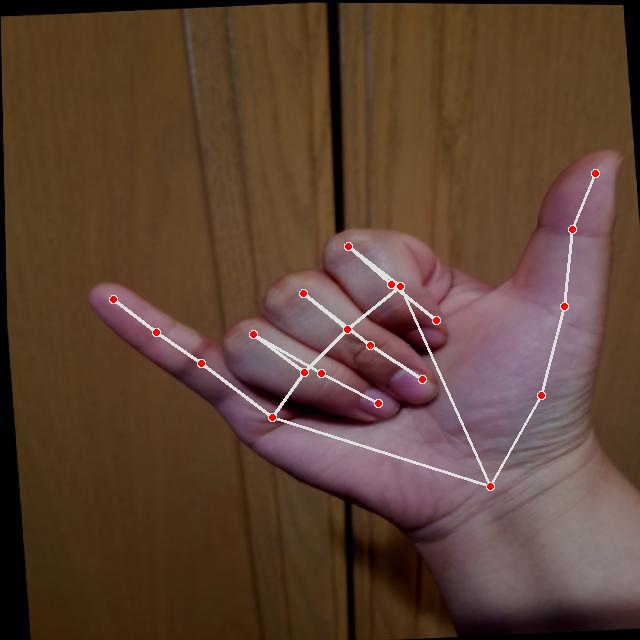Y: (65, 135, 639, 548)
